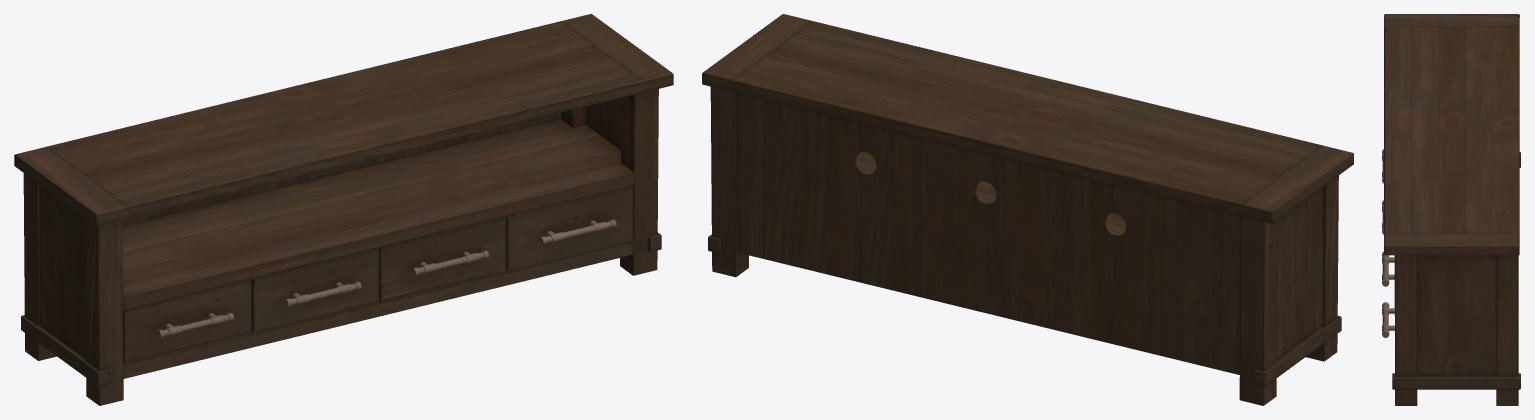
The model's file is abo-B075Z6YRWQ.glb.
3 views of the same model, side by side, from view 1: azimuth 30°, elevation 25°; view 2: azimuth 150°, elevation 25°; view 3: azimuth 270°, elevation 25° (orthographic). The views are drawn at different scales.
Size of the model in its own units: 1.87 by 0.6151 by 0.471.
Materials: 1 (1 with a texture image).
